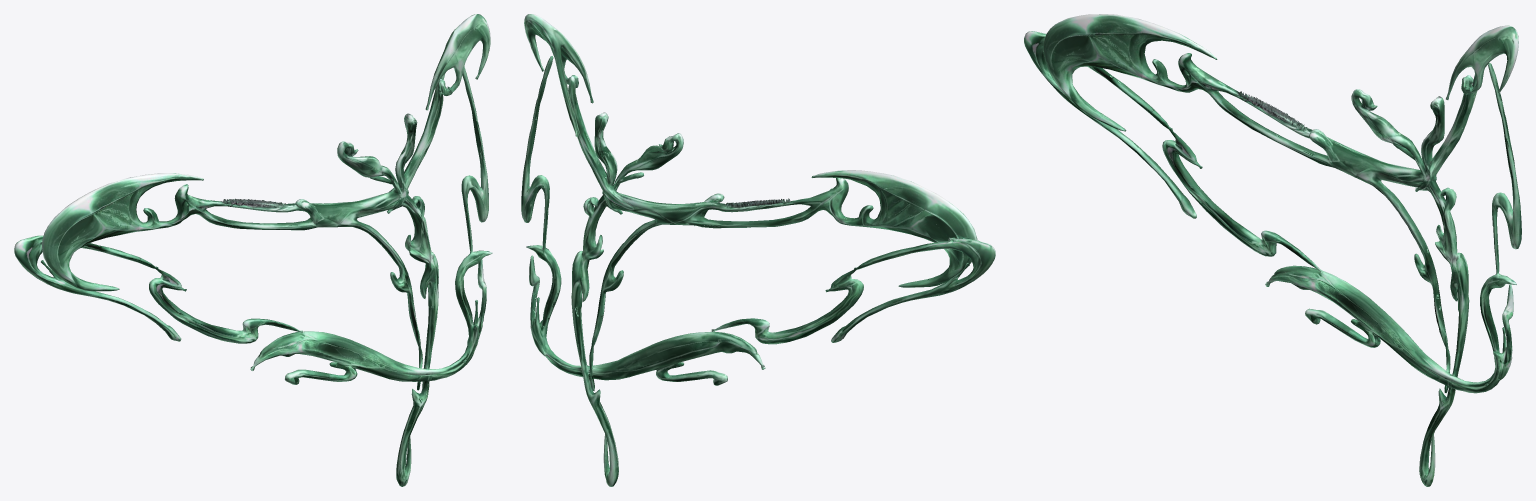
The model's file is accept-intro.glb.
3 renders of one model, left to right at view 1: azimuth 30°, elevation 25°; view 2: azimuth 150°, elevation 25°; view 3: azimuth 330°, elevation 25°, orthographic. The views are drawn at different scales.
Visible parts, largest first — view 1: tripo_node_4517213f-8f68-4115-baeb-f7b9e51235e7; view 2: tripo_node_4517213f-8f68-4115-baeb-f7b9e51235e7; view 3: tripo_node_4517213f-8f68-4115-baeb-f7b9e51235e7.
Boxes of the visible parts, x1,y1,x2,y2 form: tripo_node_4517213f-8f68-4115-baeb-f7b9e51235e7: [14, 14, 492, 486]; tripo_node_4517213f-8f68-4115-baeb-f7b9e51235e7: [521, 14, 995, 486]; tripo_node_4517213f-8f68-4115-baeb-f7b9e51235e7: [1024, 14, 1521, 486].
Size of the model in its own units: 0.9792 by 0.8968 by 0.0503.
Materials: 1 (1 with a texture image).
